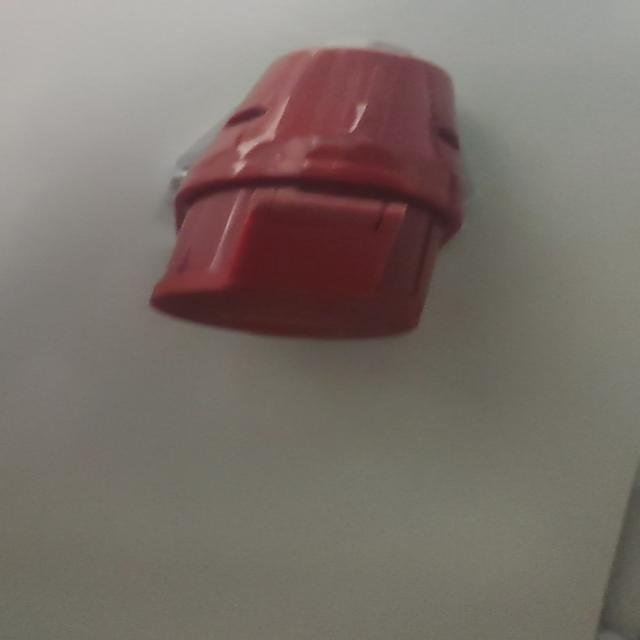400v socket down: (150, 38, 468, 338)
